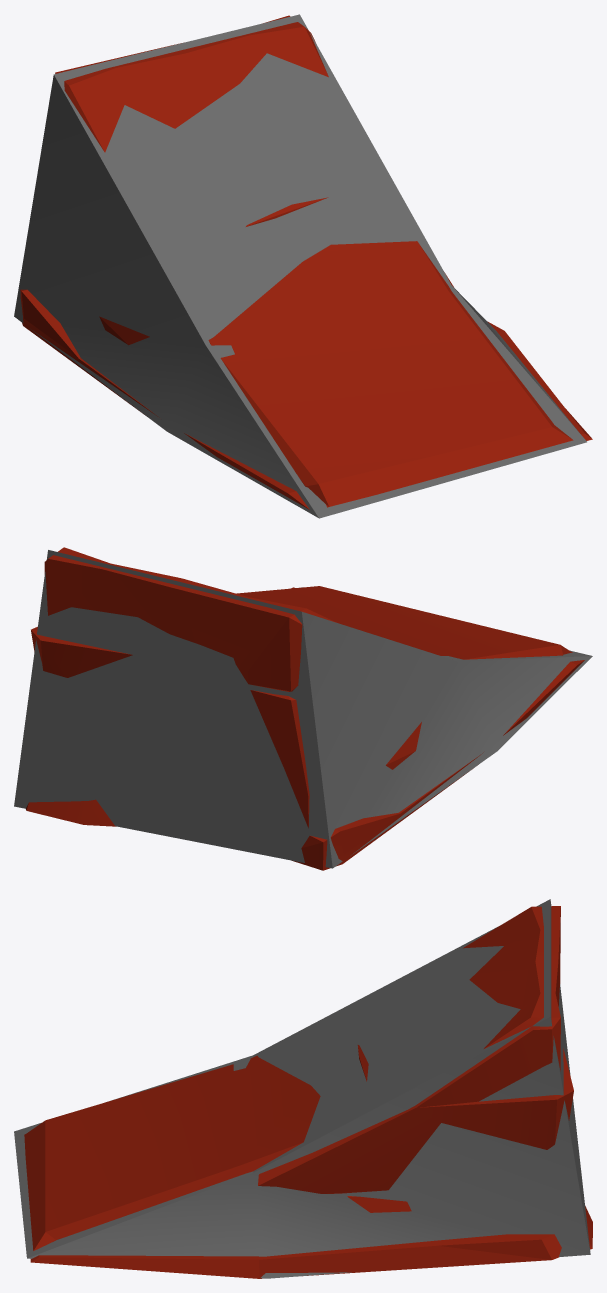
File: SM_Ramp.fbx
3 views of the same model, one above another, from view 1: azimuth 30°, elevation 25°; view 2: azimuth 150°, elevation 25°; view 3: azimuth 270°, elevation 25° (orthographic). The views are drawn at different scales.
Visible parts, largest first — view 1: SM_Ramp_col, SM_Ramp; view 2: SM_Ramp_col, SM_Ramp; view 3: SM_Ramp, SM_Ramp_col.
Boxes of the visible parts, box(x1,y1,x2,y2) form: SM_Ramp_col: box(14, 14, 586, 518); SM_Ramp: box(20, 15, 592, 509); SM_Ramp_col: box(14, 550, 592, 868); SM_Ramp: box(26, 547, 584, 870); SM_Ramp: box(24, 906, 592, 1278); SM_Ramp_col: box(14, 899, 590, 1278).
Size of the model in its own units: 219 by 145 by 323.
